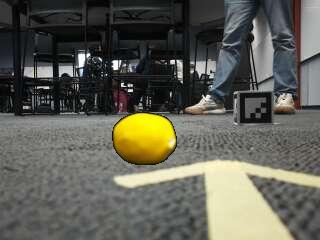lemon: (113, 113, 175, 164)
